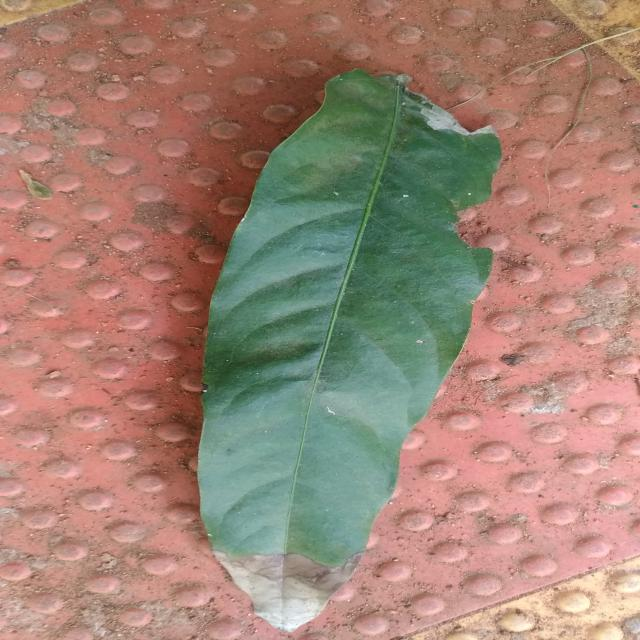seethaashoka: (198, 69, 500, 631)
